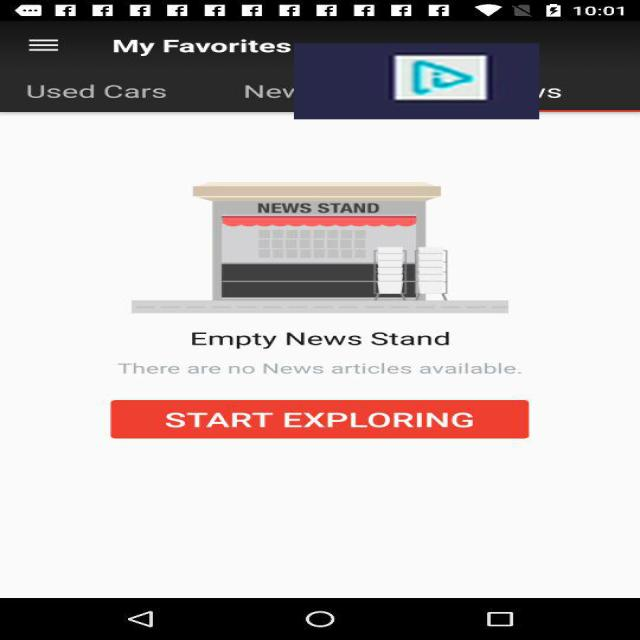sneaking: (294, 44, 539, 120)
